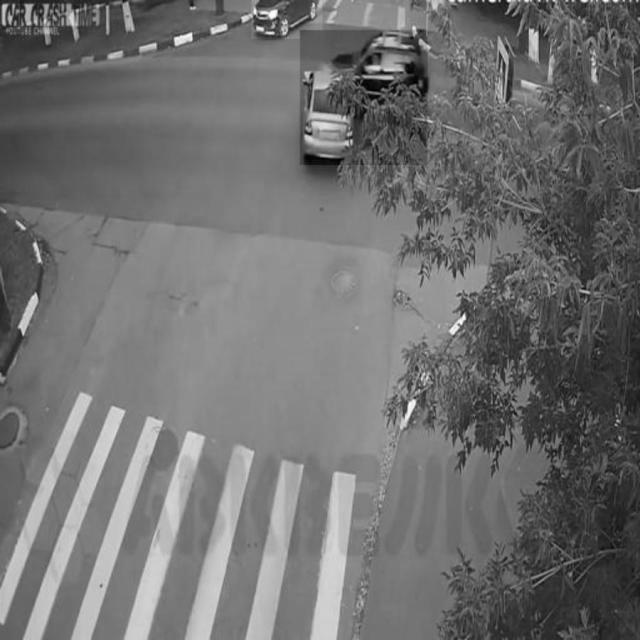accident: (300, 30, 428, 166)
vehicle: (251, 0, 322, 38)
